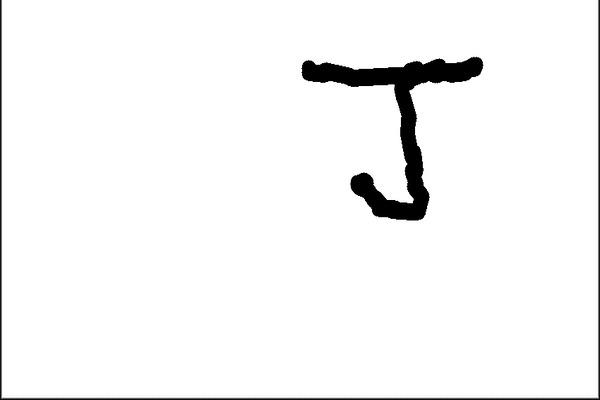J: (294, 43, 490, 228)
